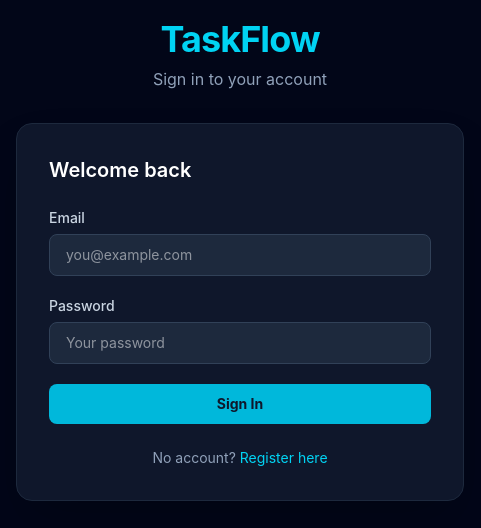
Login Component › 3. shows error for invalid email format
Note: Use user.type instead of fireEvent.change for more accurate browser simulation
Type "notanemail" into the field with placeholder "you@example.com".
click(240, 255); type("notanemail")  # box [49,234,431,276]
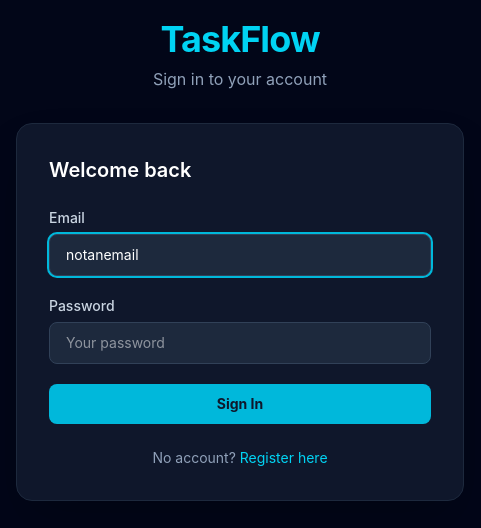
Type "somepassword" into the password field with placeholder "Your password".
click(240, 343); type("somepassword")  # box [49,322,431,364]
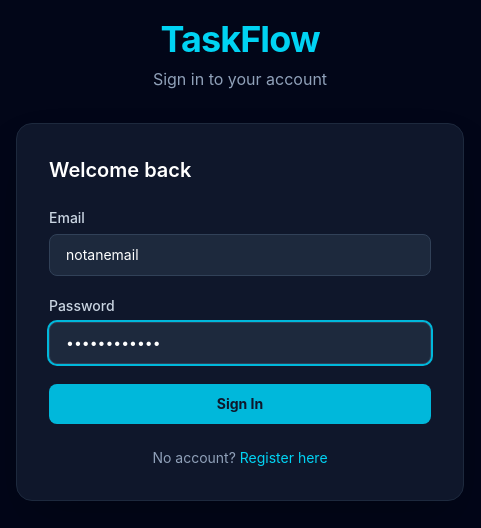
Note: Click submit
Click the button "Sign In".
click(240, 404)  # box [49,384,431,424]
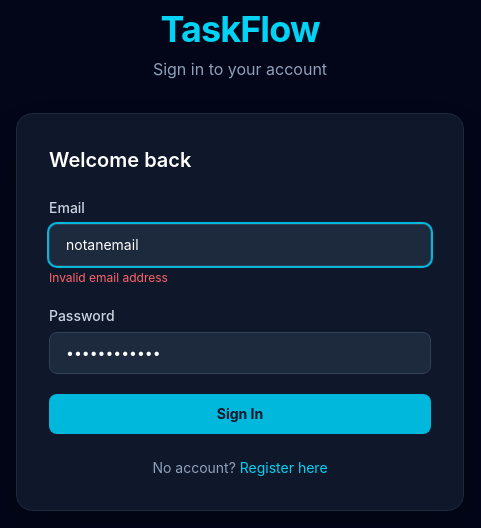
Expected: the text "Invalid email address" is shown, [49,270,168,285]
